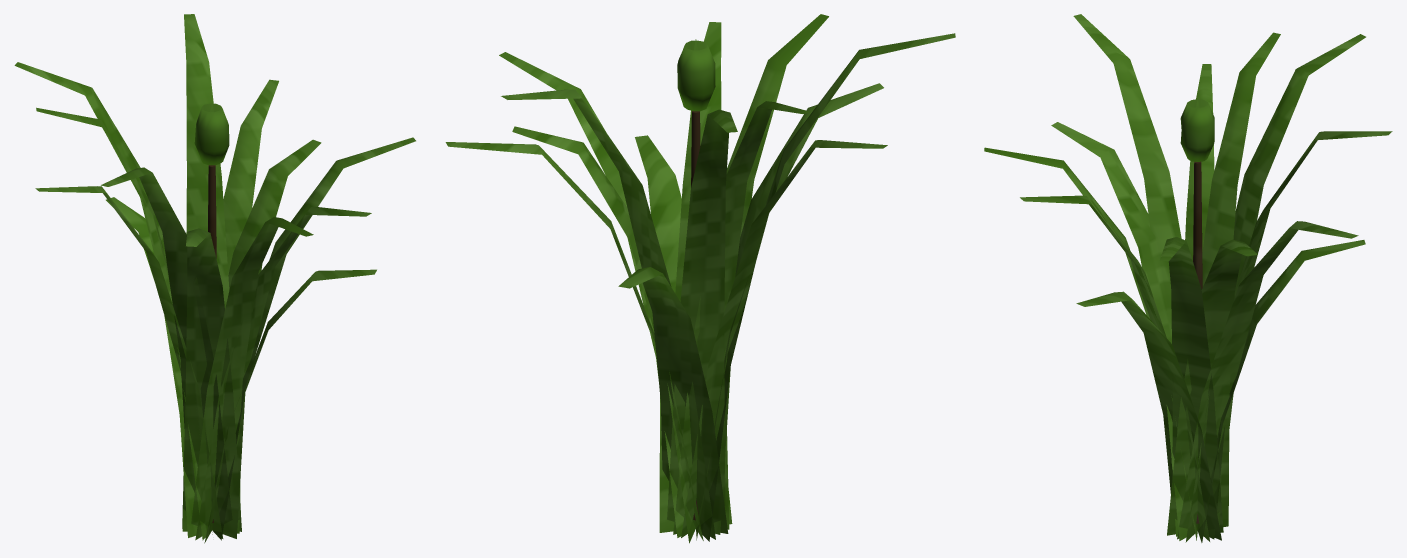
Rendered from plant_wolf02-lod0.glb.
The picture shows the model from 3 angles, left to right: view 1: azimuth 30°, elevation 25°; view 2: azimuth 150°, elevation 25°; view 3: azimuth 270°, elevation 25°; orthographic projection. The views are drawn at different scales.
Visible parts, largest first — view 1: TZ_ground_plant_Batch_00_LOD0, TZ_ground_plant_Batch_01_LOD0; view 2: TZ_ground_plant_Batch_00_LOD0; view 3: TZ_ground_plant_Batch_00_LOD0, TZ_ground_plant_Batch_01_LOD0.
Boxes of the visible parts, box(x1,y1,x2,y2) form: TZ_ground_plant_Batch_00_LOD0: box(14, 14, 415, 543); TZ_ground_plant_Batch_01_LOD0: box(208, 165, 216, 522); TZ_ground_plant_Batch_00_LOD0: box(445, 14, 955, 543); TZ_ground_plant_Batch_00_LOD0: box(984, 14, 1392, 542); TZ_ground_plant_Batch_01_LOD0: box(1193, 161, 1202, 523).
Bounding box in the file's own units: 0.7062 × 0.82 × 0.6914.
2 materials, 2 textured.
